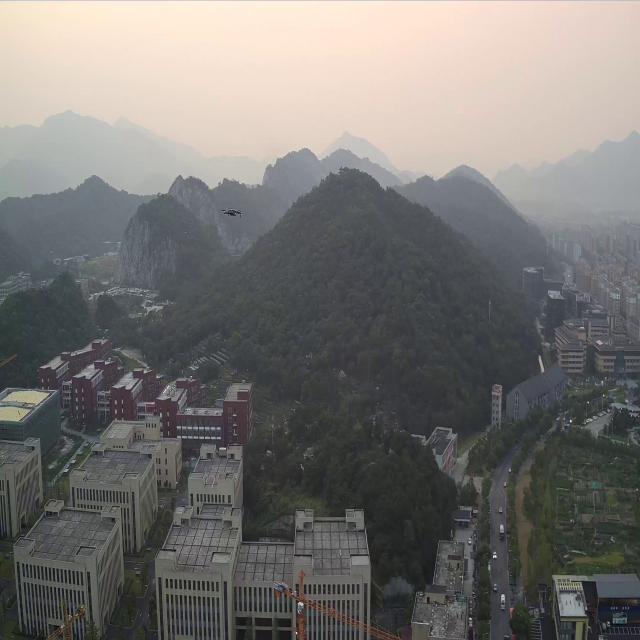UAV: (222, 208, 243, 220)
